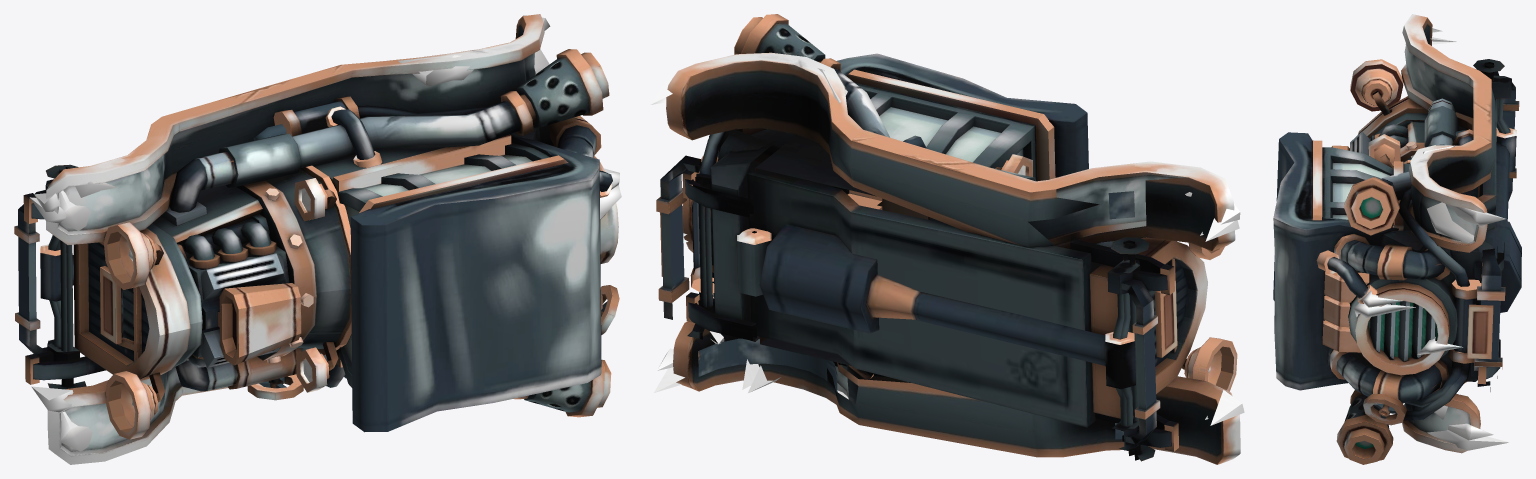
Rendered from carBody.glb.
3 views of the same model, side by side, from view 1: azimuth 30°, elevation 25°; view 2: azimuth 150°, elevation 25°; view 3: azimuth 270°, elevation 25° (orthographic). The views are drawn at different scales.
Visible parts, largest first — view 1: car; view 2: car; view 3: car.
Boxes of the visible parts, <box> form: car: <box>14,14,621,464</box>; car: <box>650,14,1244,464</box>; car: <box>1273,14,1521,464</box>.
Size of what is drawn, in the model's own units: 5.41 by 3.4 by 2.67.
1 material, 1 textured.
